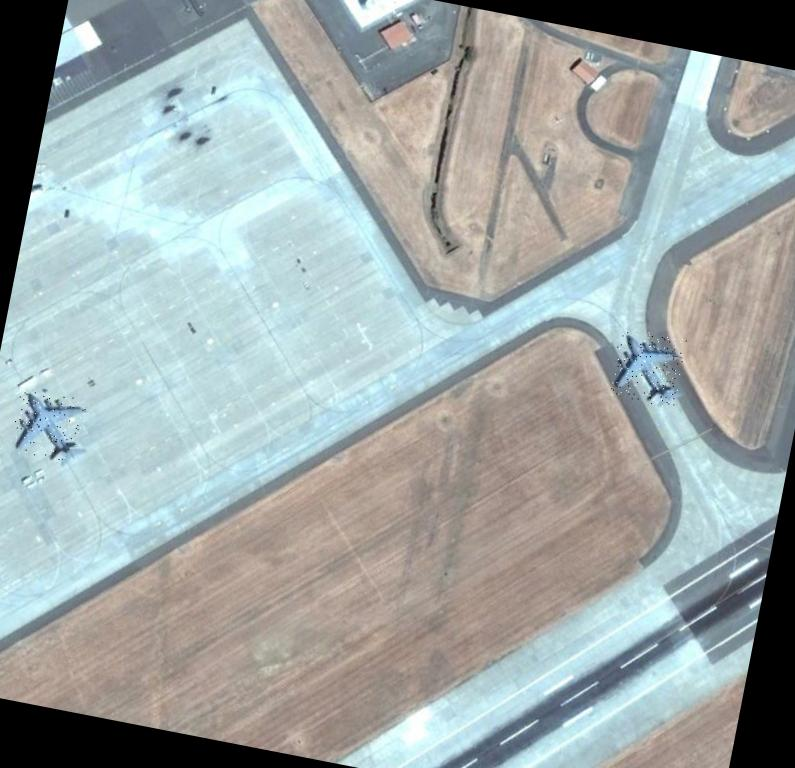A3: (607, 326, 689, 408), (8, 387, 87, 464)
